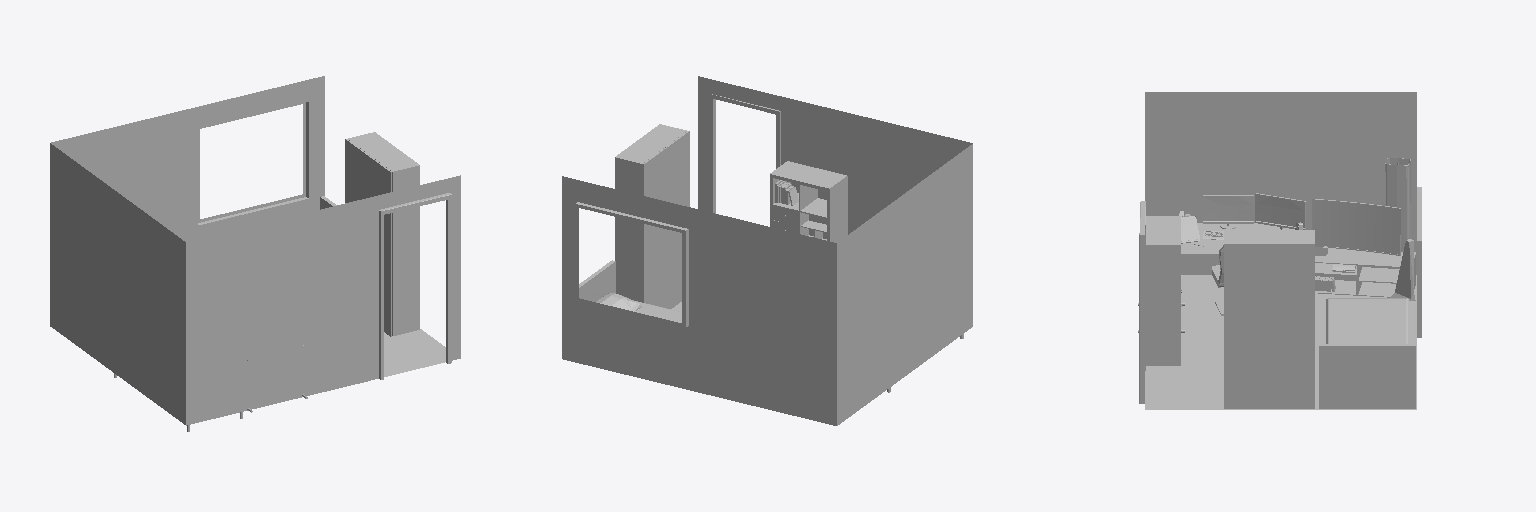
3 renders of one model, left to right at view 1: azimuth 30°, elevation 25°; view 2: azimuth 150°, elevation 25°; view 3: azimuth 270°, elevation 25°, orthographic.
Parts seen in each view (by area): view 1: group3 group2Room, group3 group2Closet, group3 doorgroup2; view 2: group3 group2Room, group3 group2Closet, group3 group2Shelf, group3 group2Bed, group3 doorgroup2, group3 group2Shelffernseh_tisch22; view 3: group3 group2Room, group3 group2Closet, group3 group2Bed, group3 group2Shelf, group3 group2TVTV_Curved, group3 group2TV, group3 group2Lamp, group3 group2pCube252group4, group3 group2group4pCube283, group3 doorgroup2, group3 group2group4Table, group3 group2Guitar.
Part boxes in pixels (x1,y1,x2,y2): group3 group2Room: (50,76,460,425); group3 group2Closet: (345,132,419,336); group3 doorgroup2: (379,193,451,379); group3 group2Room: (562,76,972,425); group3 group2Closet: (615,124,689,308); group3 group2Shelf: (770,161,847,242); group3 group2Bed: (579,260,681,322); group3 doorgroup2: (710,94,780,213); group3 group2Shelffernseh_tisch22: (773,206,798,233); group3 group2Room: (1145,92,1421,409); group3 group2Closet: (1224,230,1314,408); group3 group2Bed: (1319,298,1415,408); group3 group2Shelf: (1146,216,1180,365); group3 group2TVTV_Curved: (1312,199,1400,255); group3 group2TV: (1315,248,1415,297); group3 group2Lamp: (1385,158,1410,251); group3 group2pCube252group4: (1203,195,1254,228); group3 group2group4pCube283: (1255,193,1305,229); group3 doorgroup2: (1139,201,1145,403); group3 group2group4Table: (1181,223,1294,254); group3 group2Guitar: (1390,239,1415,300).
Bounding box in the file's own units: 36.71 × 24.66 × 32.8.